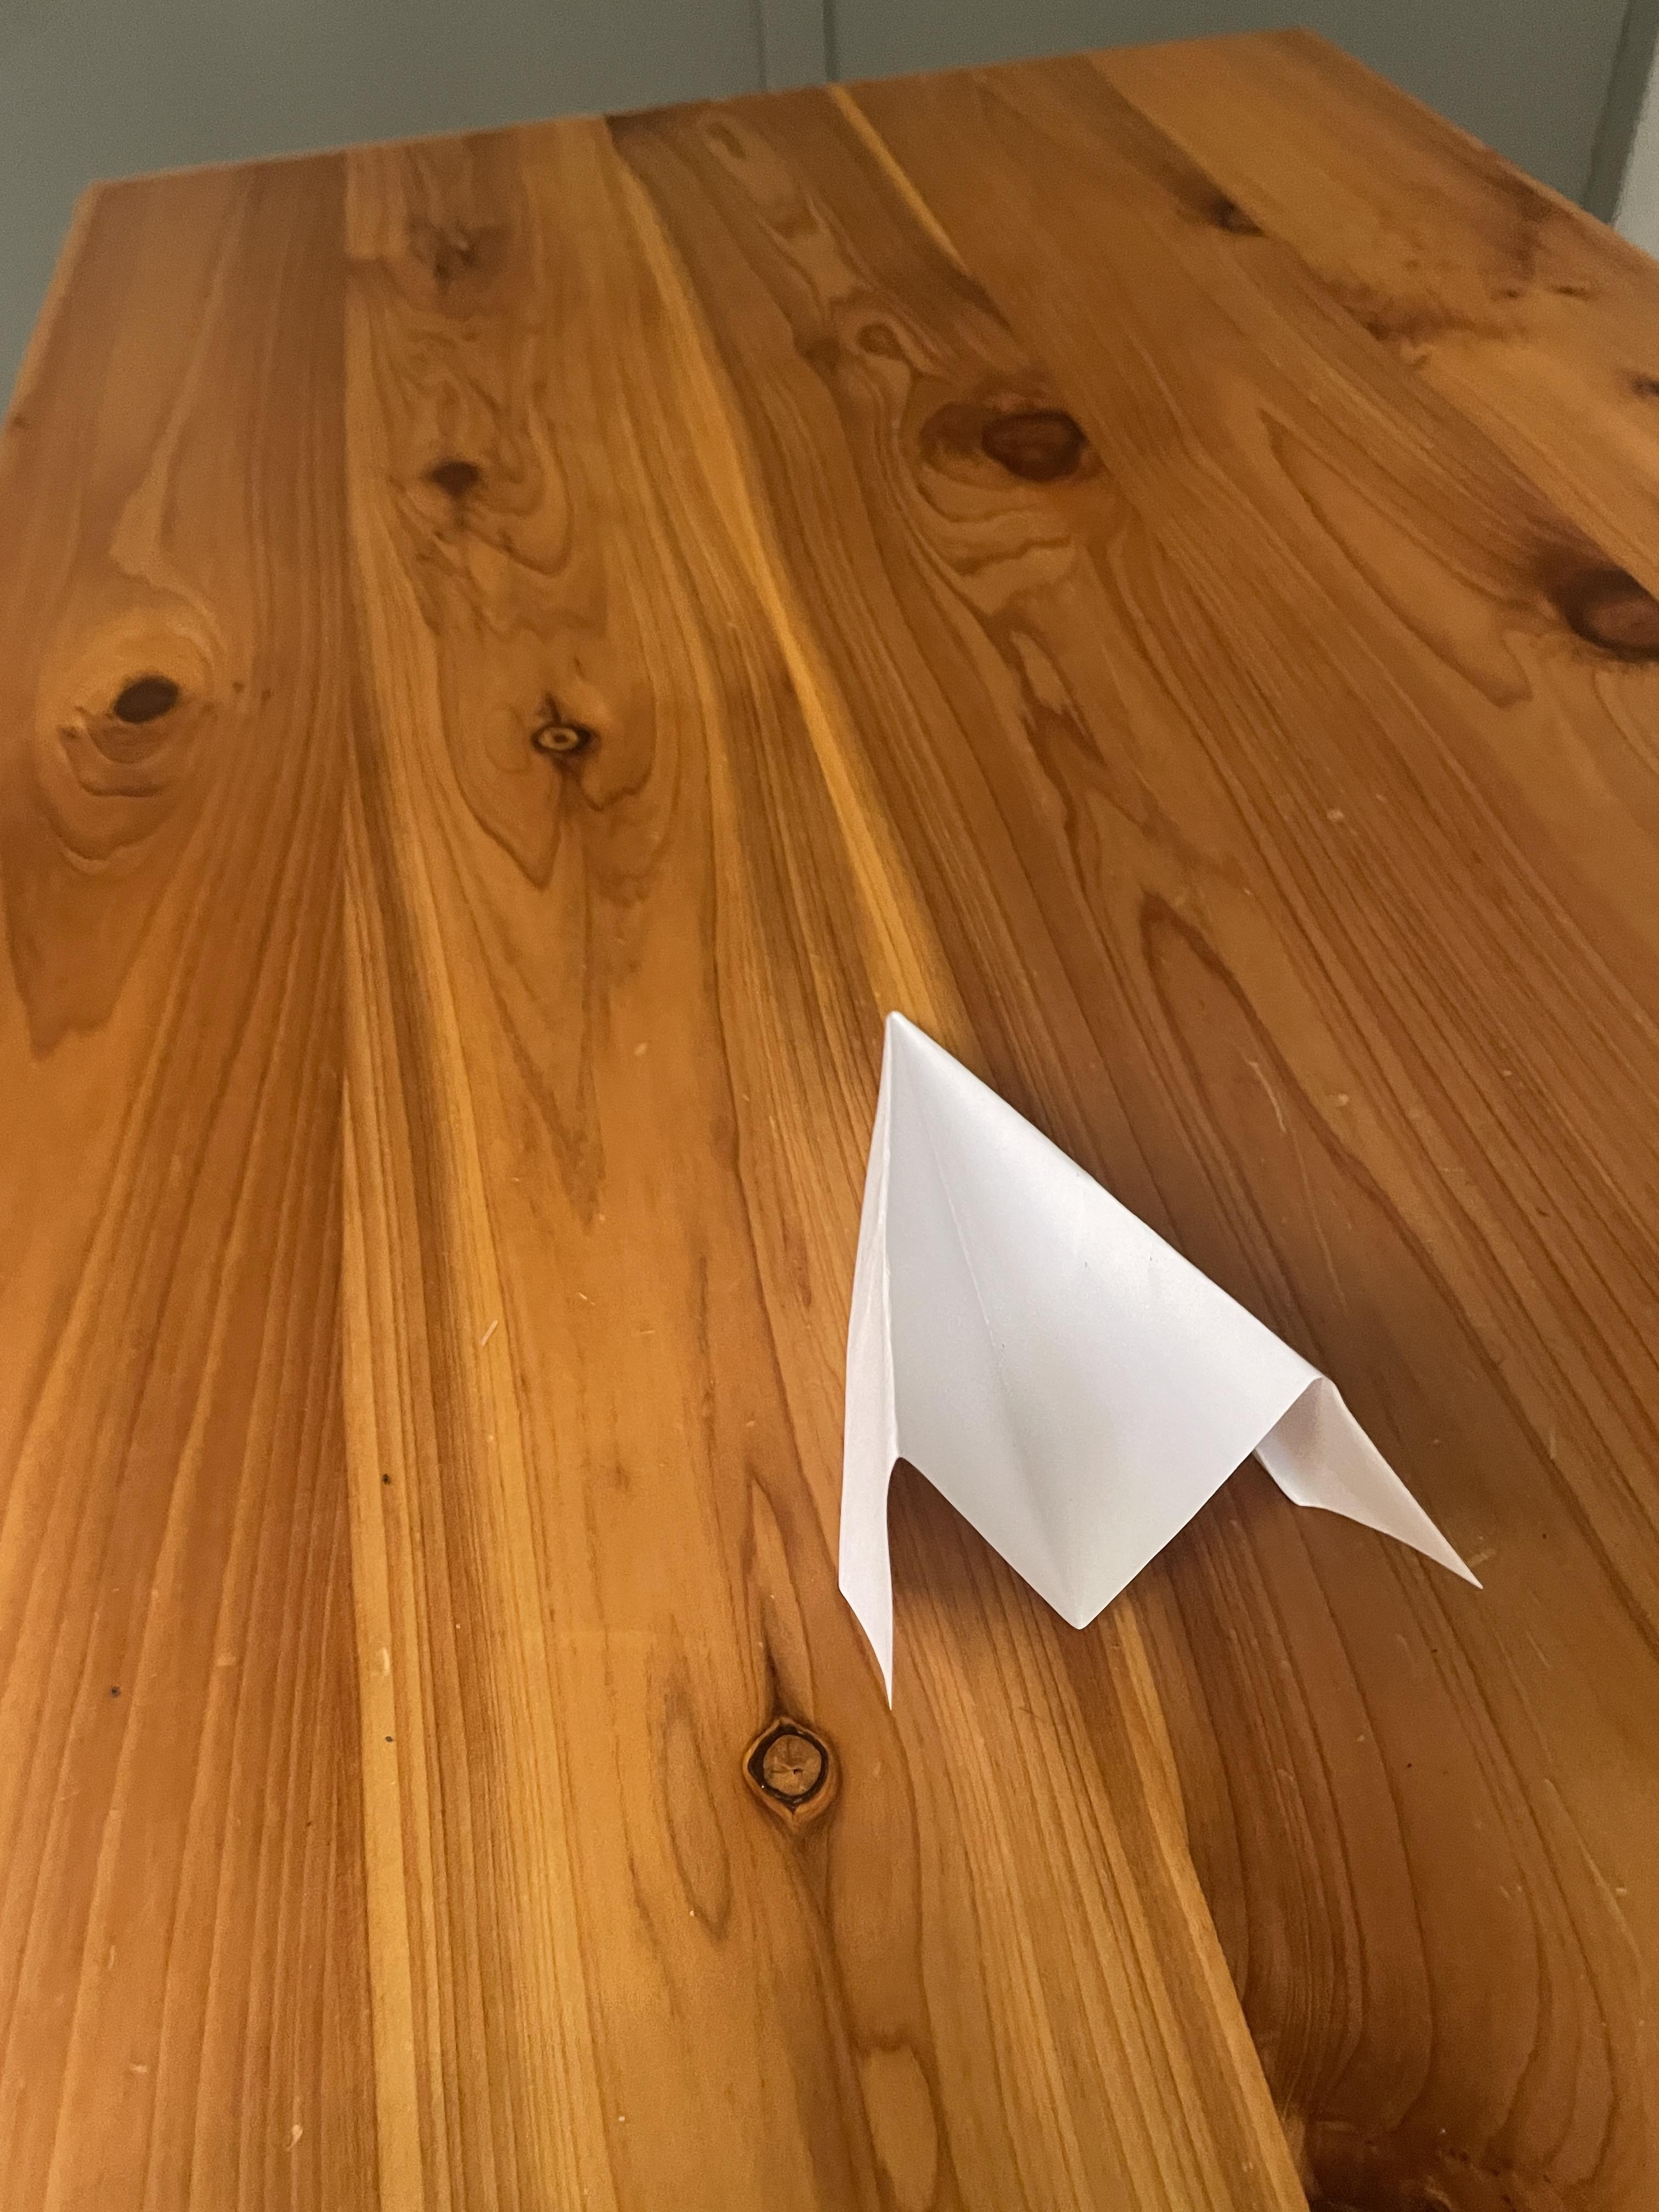shape_3: (708, 873, 1570, 1850)
